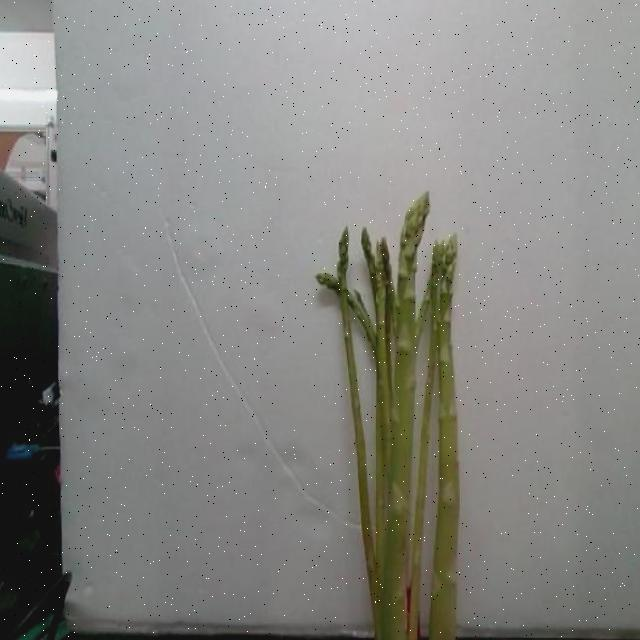aspargus: (382, 195, 431, 640), (430, 233, 459, 640)
